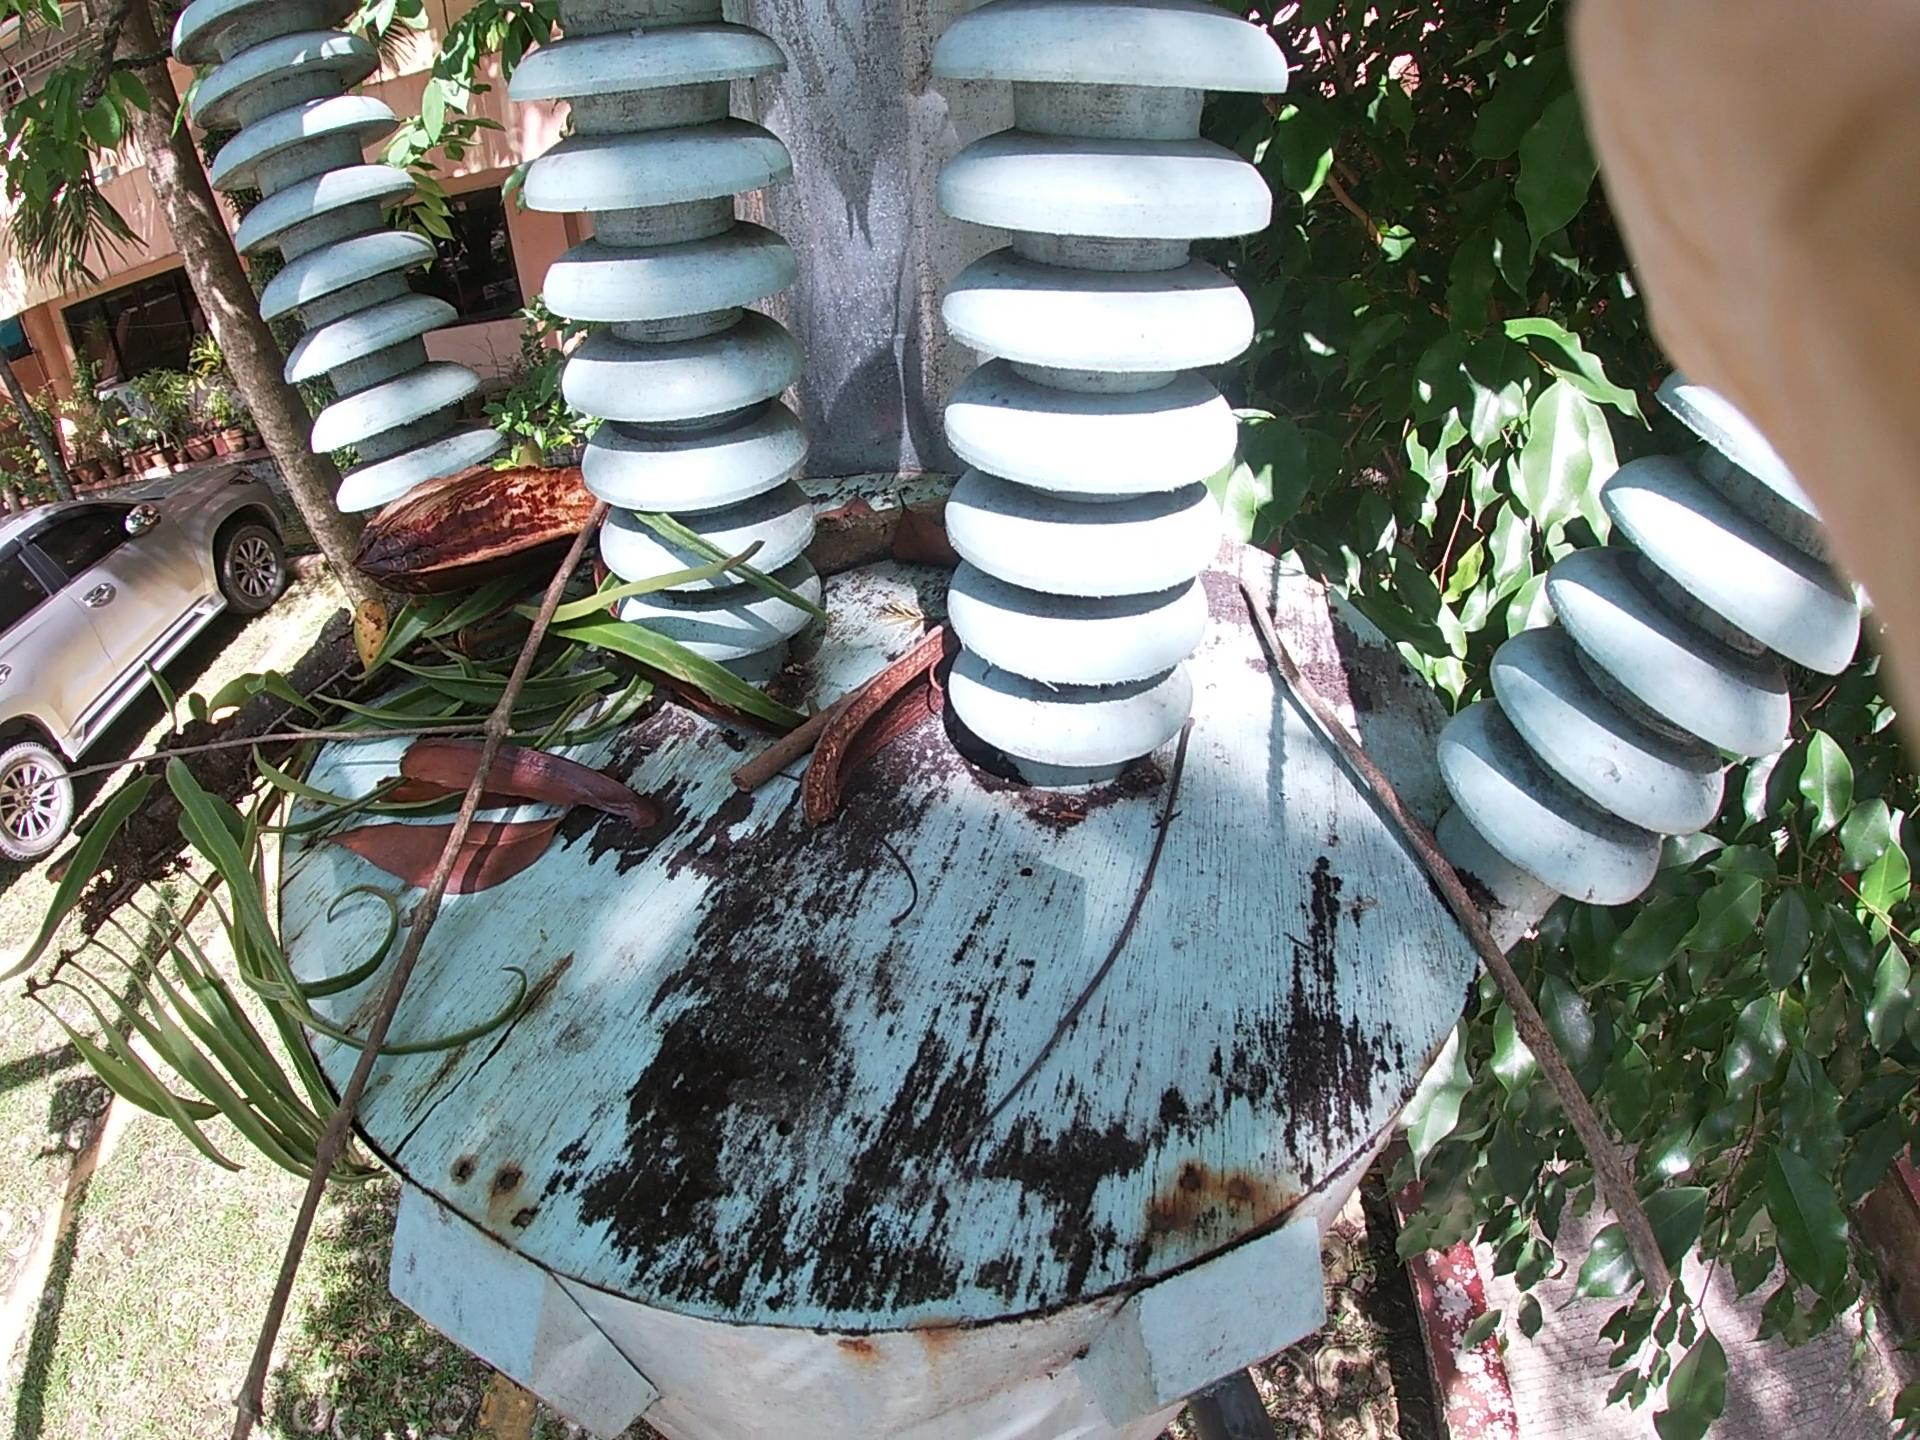branch with leaves: (88, 455, 962, 836)
mahogany fruit: (750, 513, 1034, 839), (345, 445, 658, 622)
tree branch: (224, 446, 698, 1402), (1228, 570, 1680, 1296), (739, 489, 1355, 787), (219, 712, 630, 1026), (971, 702, 1185, 1227)
